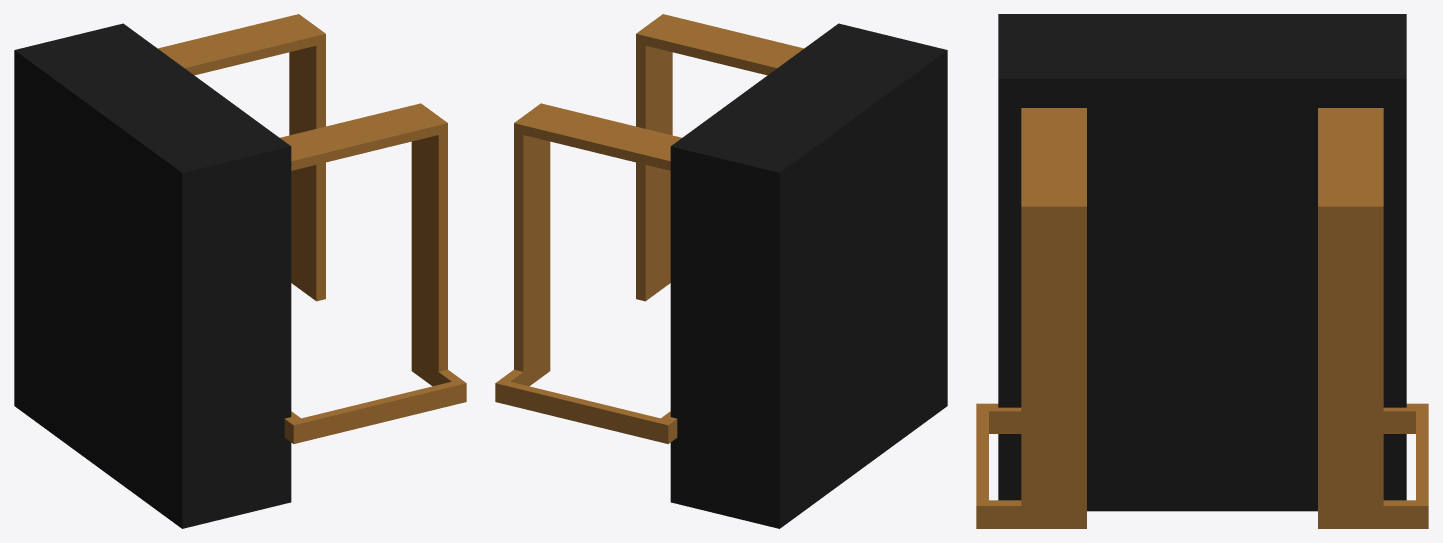
Rendered from TestBackpack.fbx.
The picture shows the model from 3 angles, left to right: view 1: azimuth 30°, elevation 25°; view 2: azimuth 150°, elevation 25°; view 3: azimuth 270°, elevation 25°; orthographic projection. The views are drawn at different scales.
Parts seen in each view (by area): view 1: Cube; view 2: Cube; view 3: Cube.
Part boxes in pixels (box(x1,y1,x2,y2)): Cube: box(14, 14, 466, 528); Cube: box(495, 14, 947, 528); Cube: box(976, 14, 1428, 528).
Size of the model in its own units: 1.92 by 2.37 by 2.25.
Materials: 1 (1 with a texture image).
